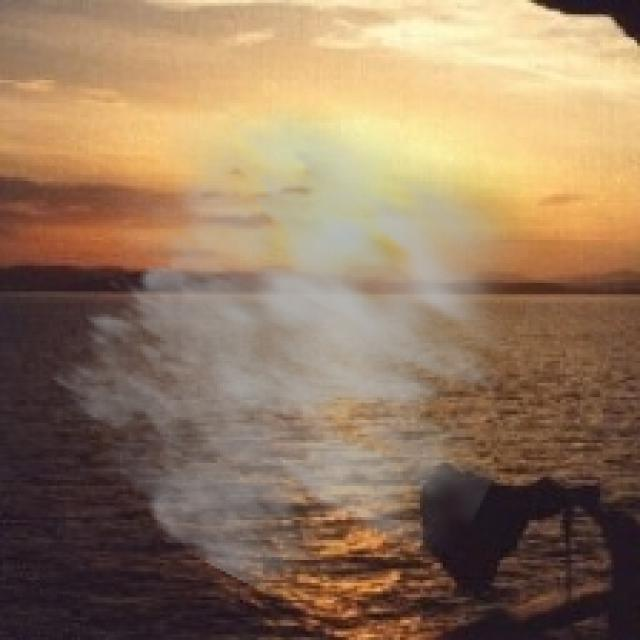Smoke: (49, 85, 606, 620)
